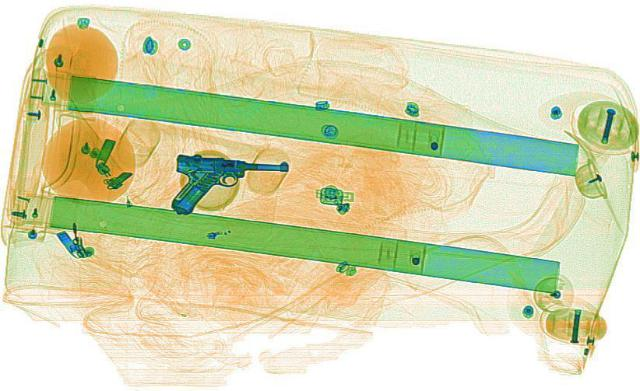Gun: (162, 151, 290, 220)
